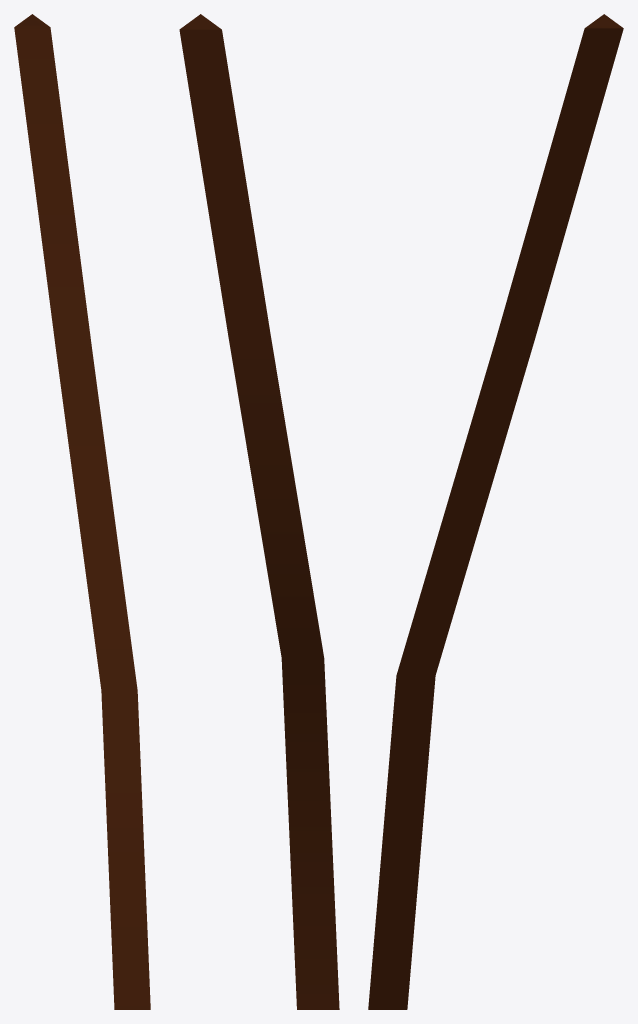
Rendered from tronc.obj.
3 renders of one model, left to right at view 1: azimuth 30°, elevation 25°; view 2: azimuth 150°, elevation 25°; view 3: azimuth 270°, elevation 25°, orthographic. The views are drawn at different scales.
Visible parts, largest first — view 1: cylinder; view 2: cylinder; view 3: cylinder.
Boxes of the visible parts, x1,y1,x2,y2 form: cylinder: (14, 14, 150, 1009); cylinder: (179, 14, 339, 1009); cylinder: (368, 14, 623, 1009).
Size of the model in its own units: 0.4283 by 13.67 by 3.23.
